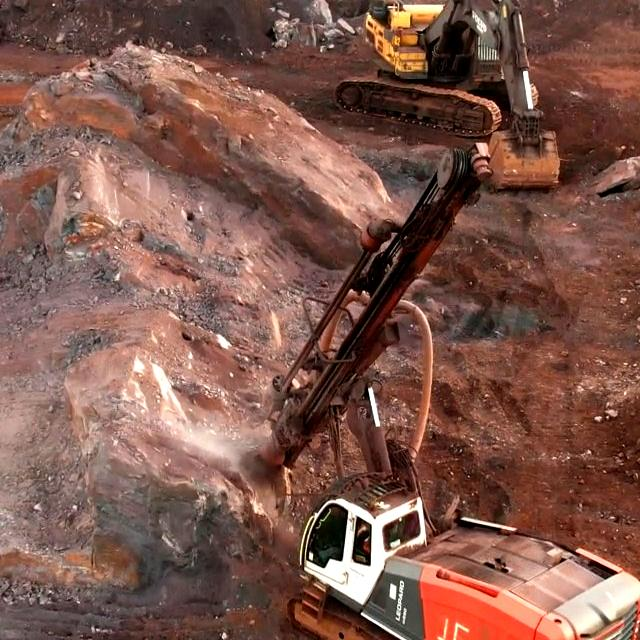Blast rig: (297, 488, 640, 640)
Excavator: (340, 0, 558, 186)
